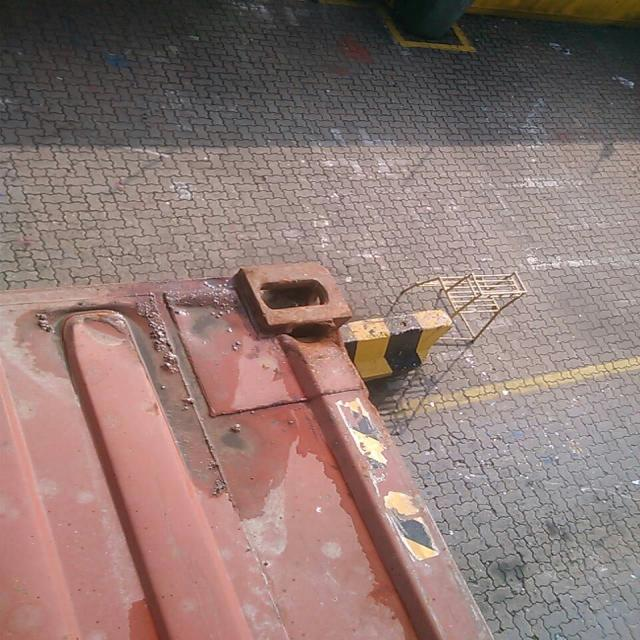hole: (282, 324, 345, 355)
